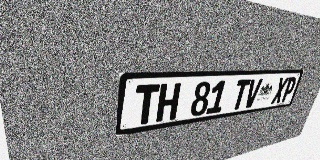1: (206, 80, 228, 114)
8: (189, 81, 213, 117)
H: (156, 83, 181, 122)
P: (280, 77, 298, 102)
T: (133, 84, 160, 126), (230, 79, 251, 110)
V: (243, 79, 263, 108)
X: (271, 77, 289, 104)
